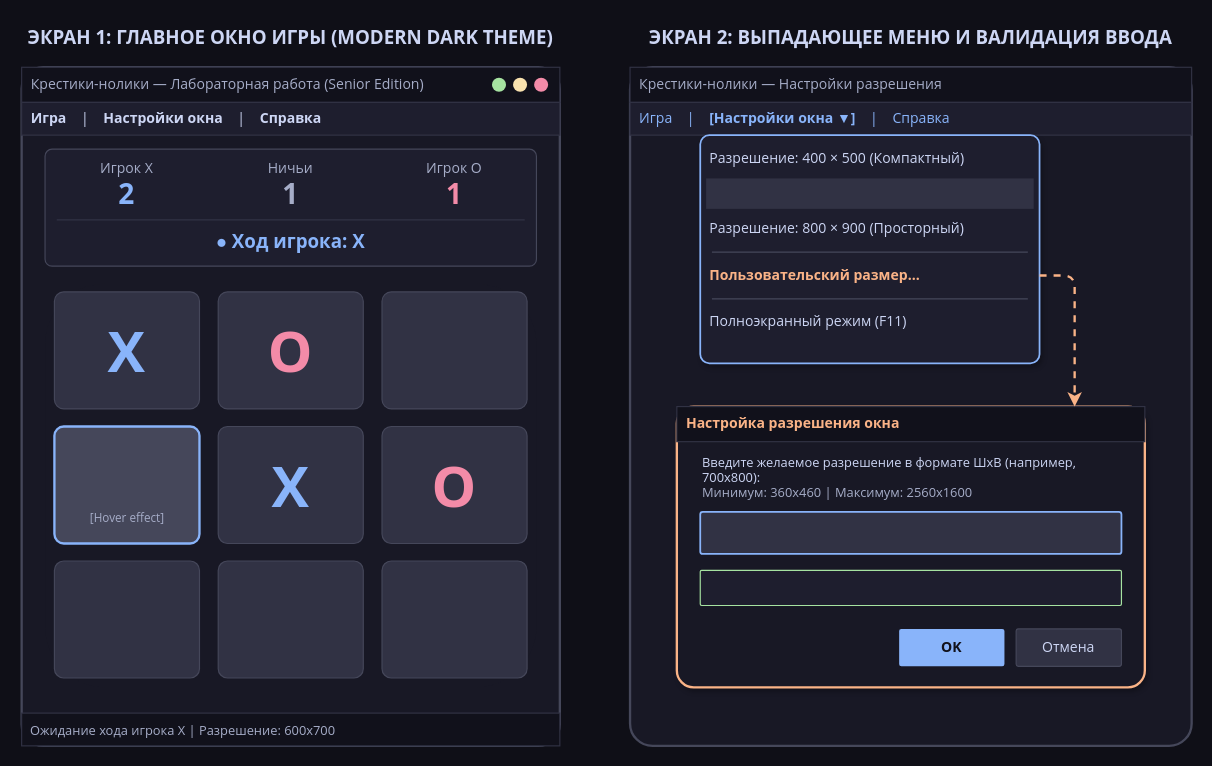
Image size: 1212x766. Some labels were removed from this diagram. Each missing label, with the centre of its shape:
"700x800" goes at pixel 910 532.
"Разрешение: 600 × 700 (Стандартный) ✓" goes at pixel 869 193.
"✓ try-except: Валидация формата, проверка min/max границ, защита от сбоев GUI" goes at pixel 910 587.
